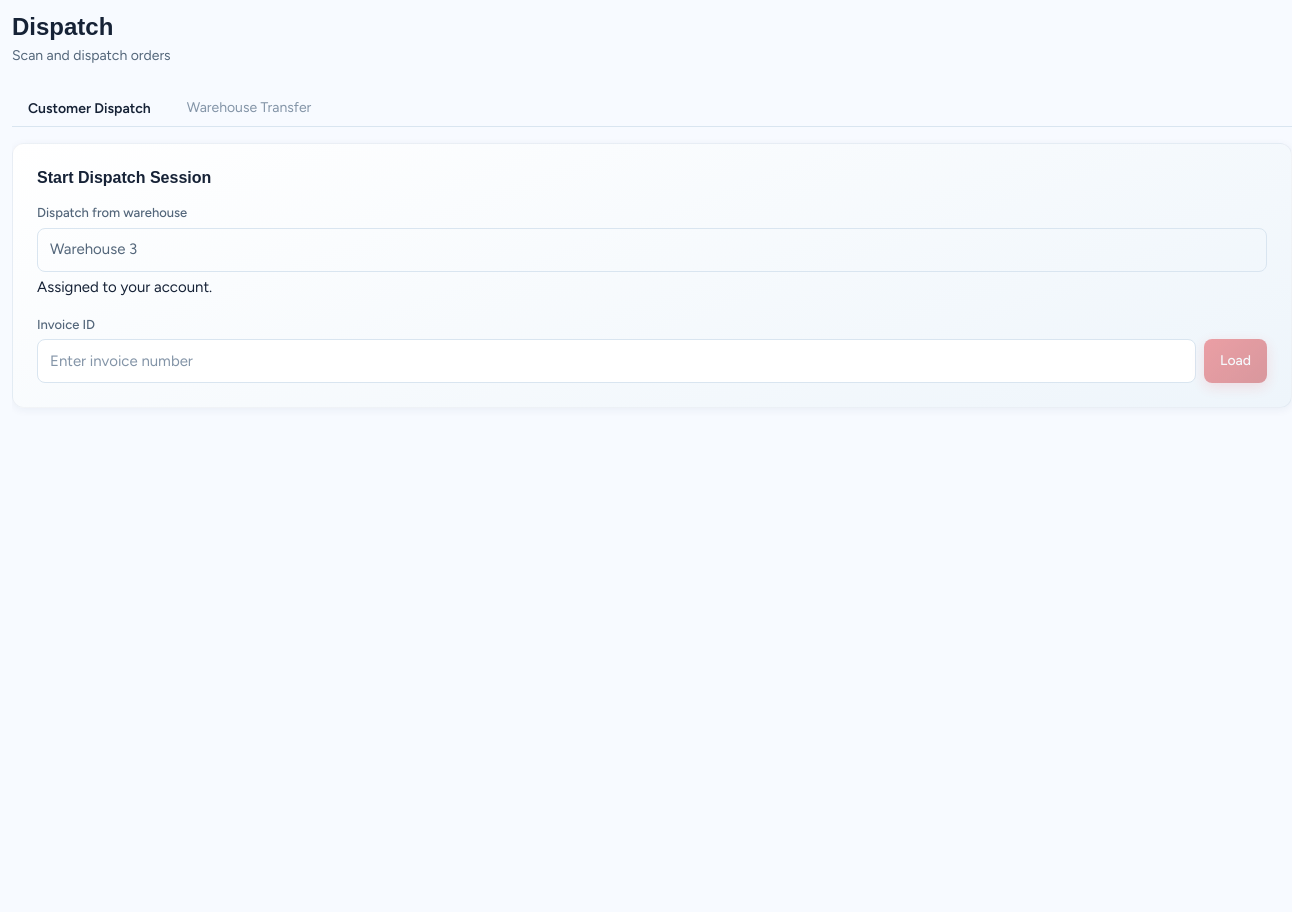
DispatchPage — after invoice loaded › shows invoice reference after loading
Type "1" into the field labelled "Invoice ID" at [617, 361], box x1=37 y1=339 x2=1196 y2=383
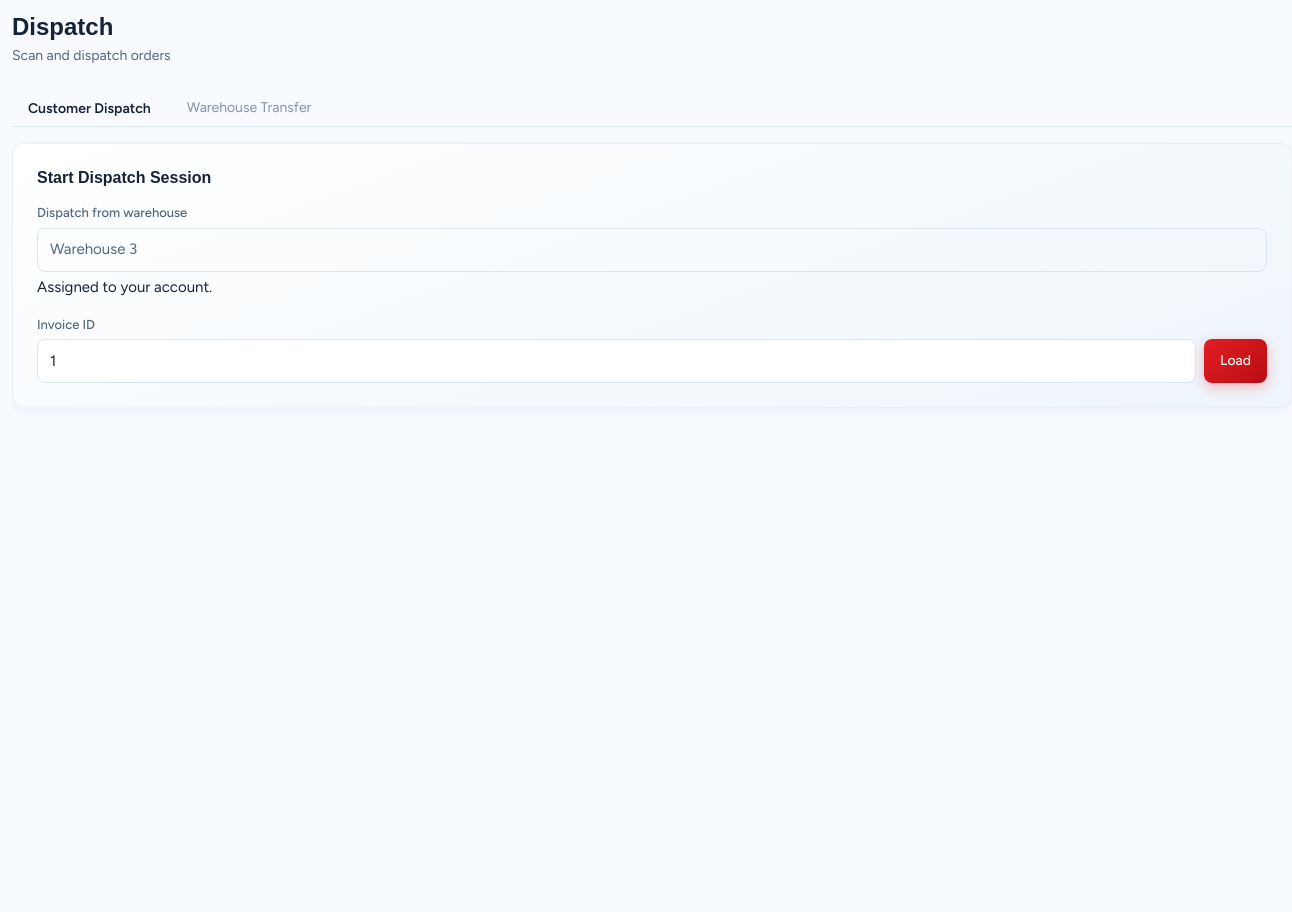
Click the button "Load" at [1236, 361], box x1=1204 y1=339 x2=1267 y2=383
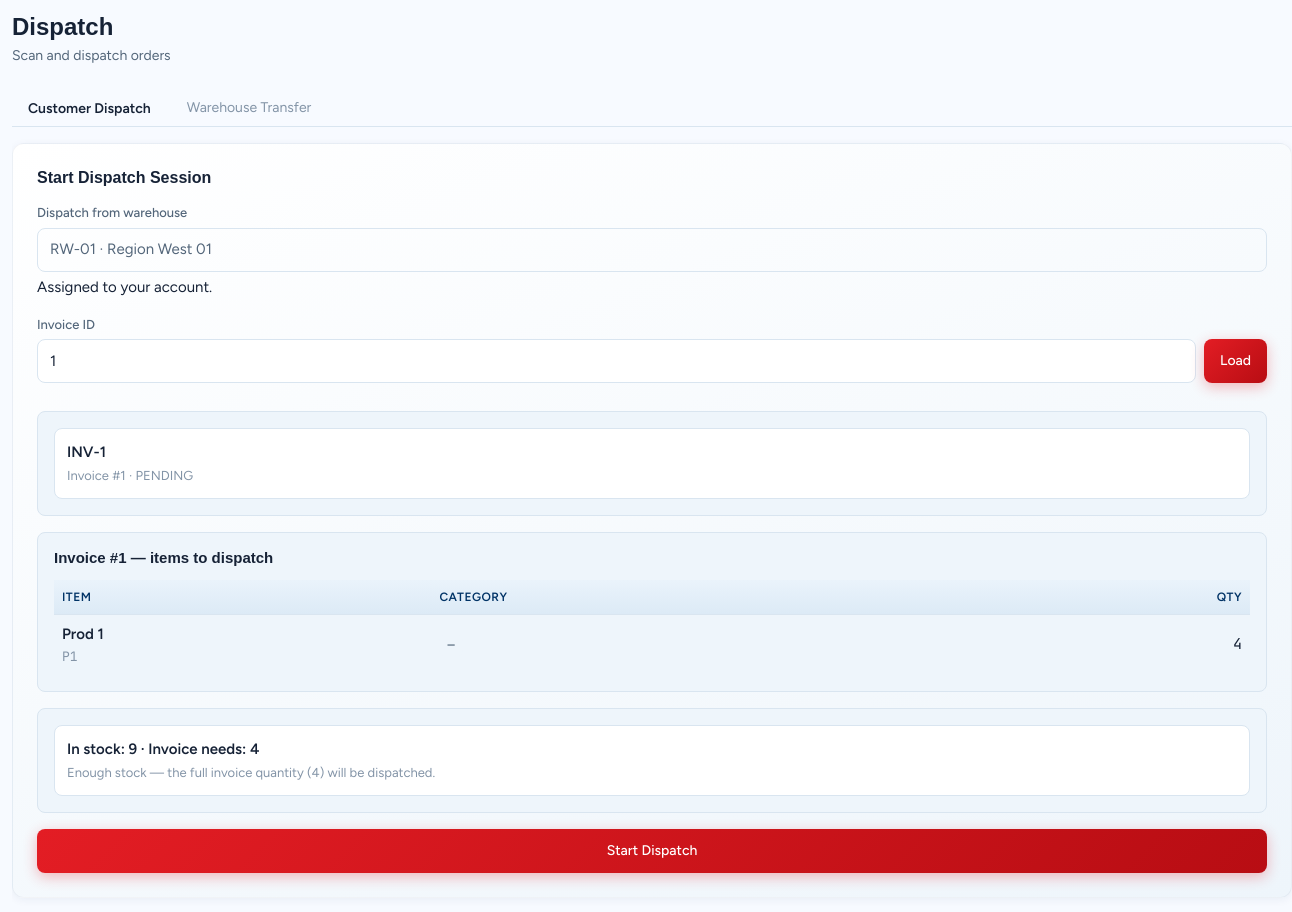
Result: the text "INV-1" is shown at x1=67 y1=443 x2=106 y2=461
Result: the text "Prod 1" is shown at x1=62 y1=625 x2=104 y2=643
Result: the text "RW-01 · Region West 01" is shown at x1=37 y1=228 x2=1267 y2=272
